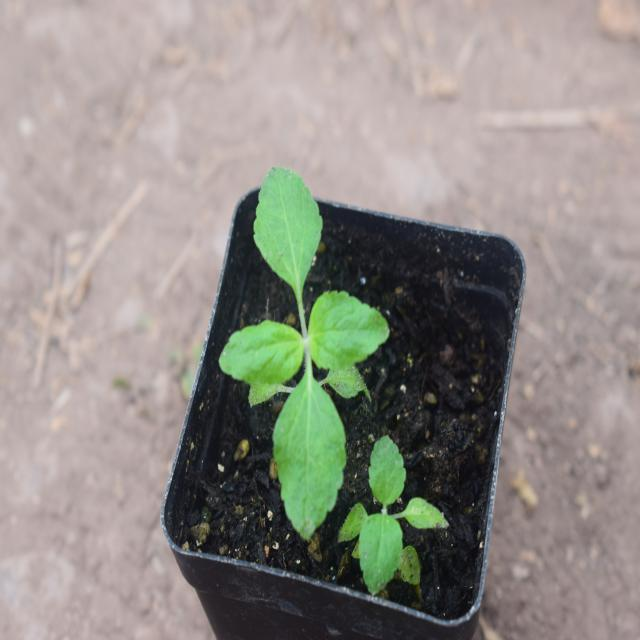billygoat_weed: (234, 148, 362, 522), (348, 425, 441, 598)
